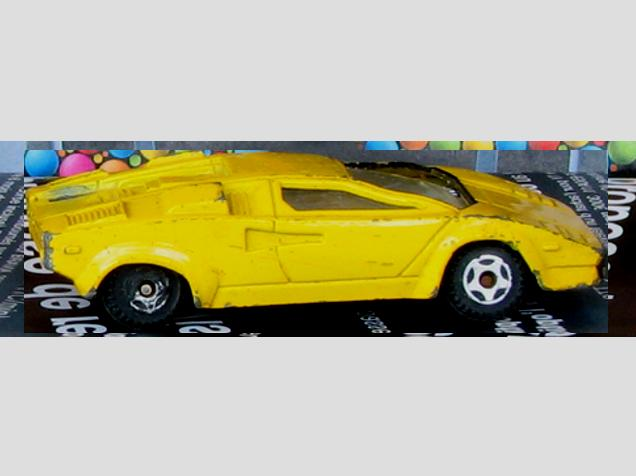toy-car: (25, 151, 609, 334)
